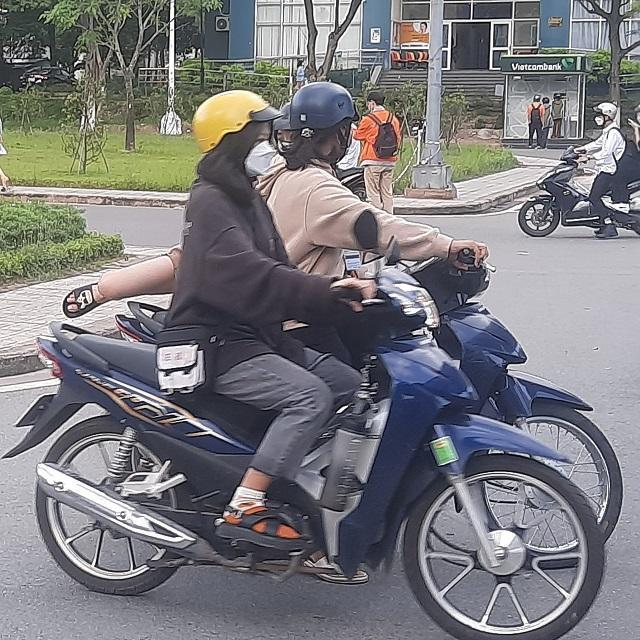Helmet: (188, 88, 282, 188), (287, 80, 361, 164)
